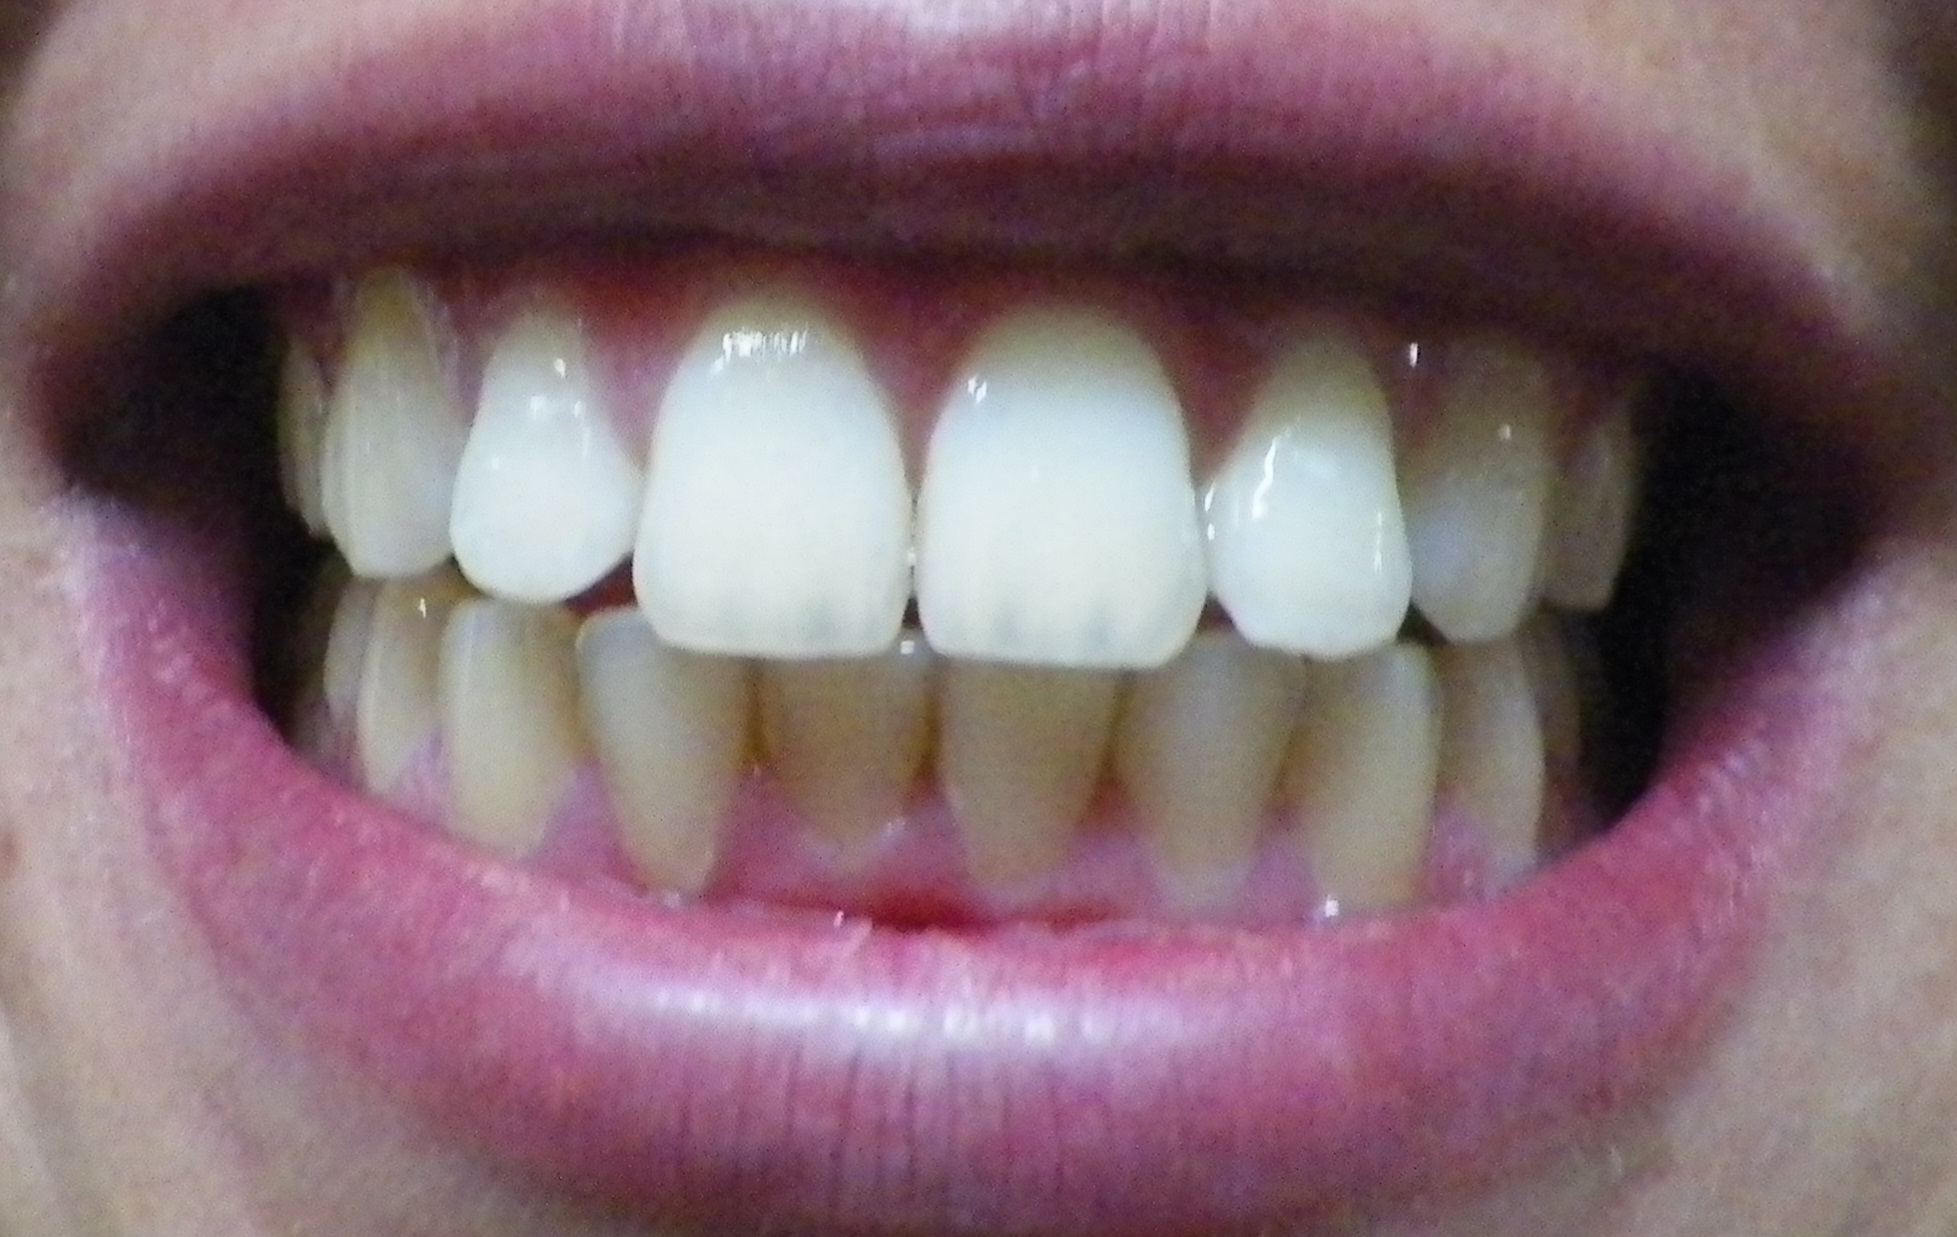boca: (229, 284, 1706, 902)
